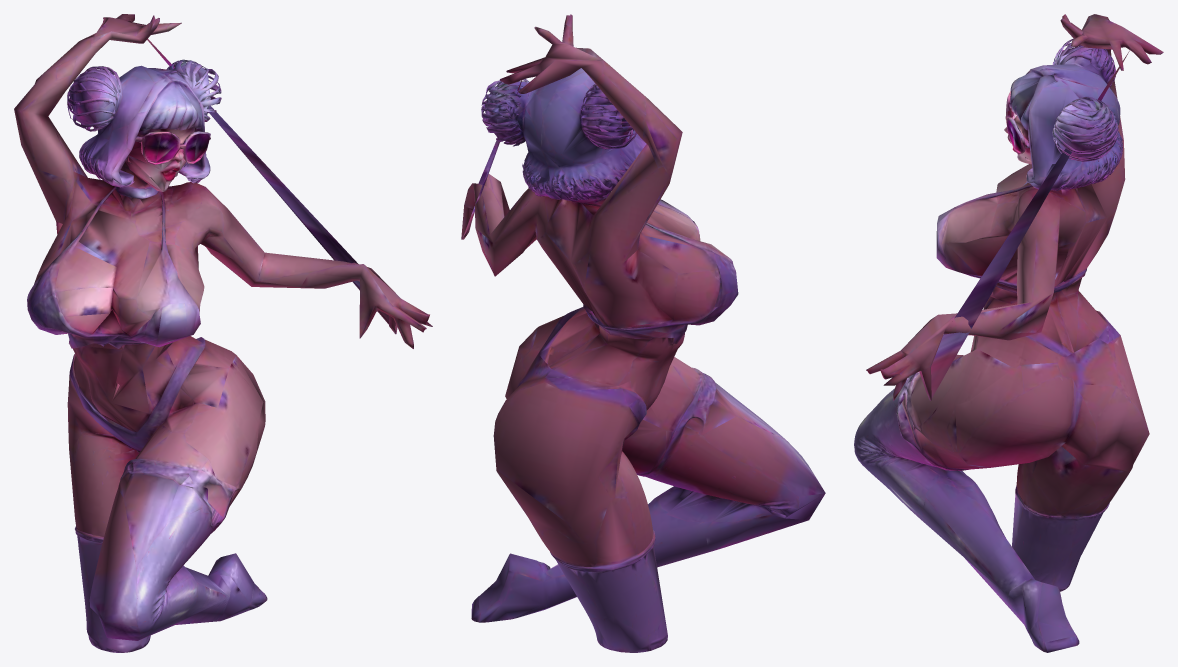
The model's file is girl-21.glb.
The picture shows the model from 3 angles, left to right: view 1: azimuth 30°, elevation 25°; view 2: azimuth 150°, elevation 25°; view 3: azimuth 270°, elevation 25°; orthographic projection. The views are drawn at different scales.
Parts seen in each view (by area): view 1: node_0; view 2: node_0; view 3: node_0.
Part boxes in pixels (x1,y1,x2,y2): node_0: (14, 14, 432, 652); node_0: (461, 14, 825, 652); node_0: (854, 14, 1163, 652).
Size of the model in its own units: 0.6648 by 1.14 by 0.5452.
1 material, 1 textured.
